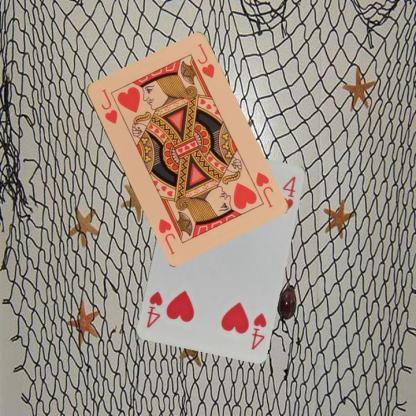4h: (249, 310, 268, 350)
Jh: (252, 168, 274, 210), (99, 86, 119, 125)
